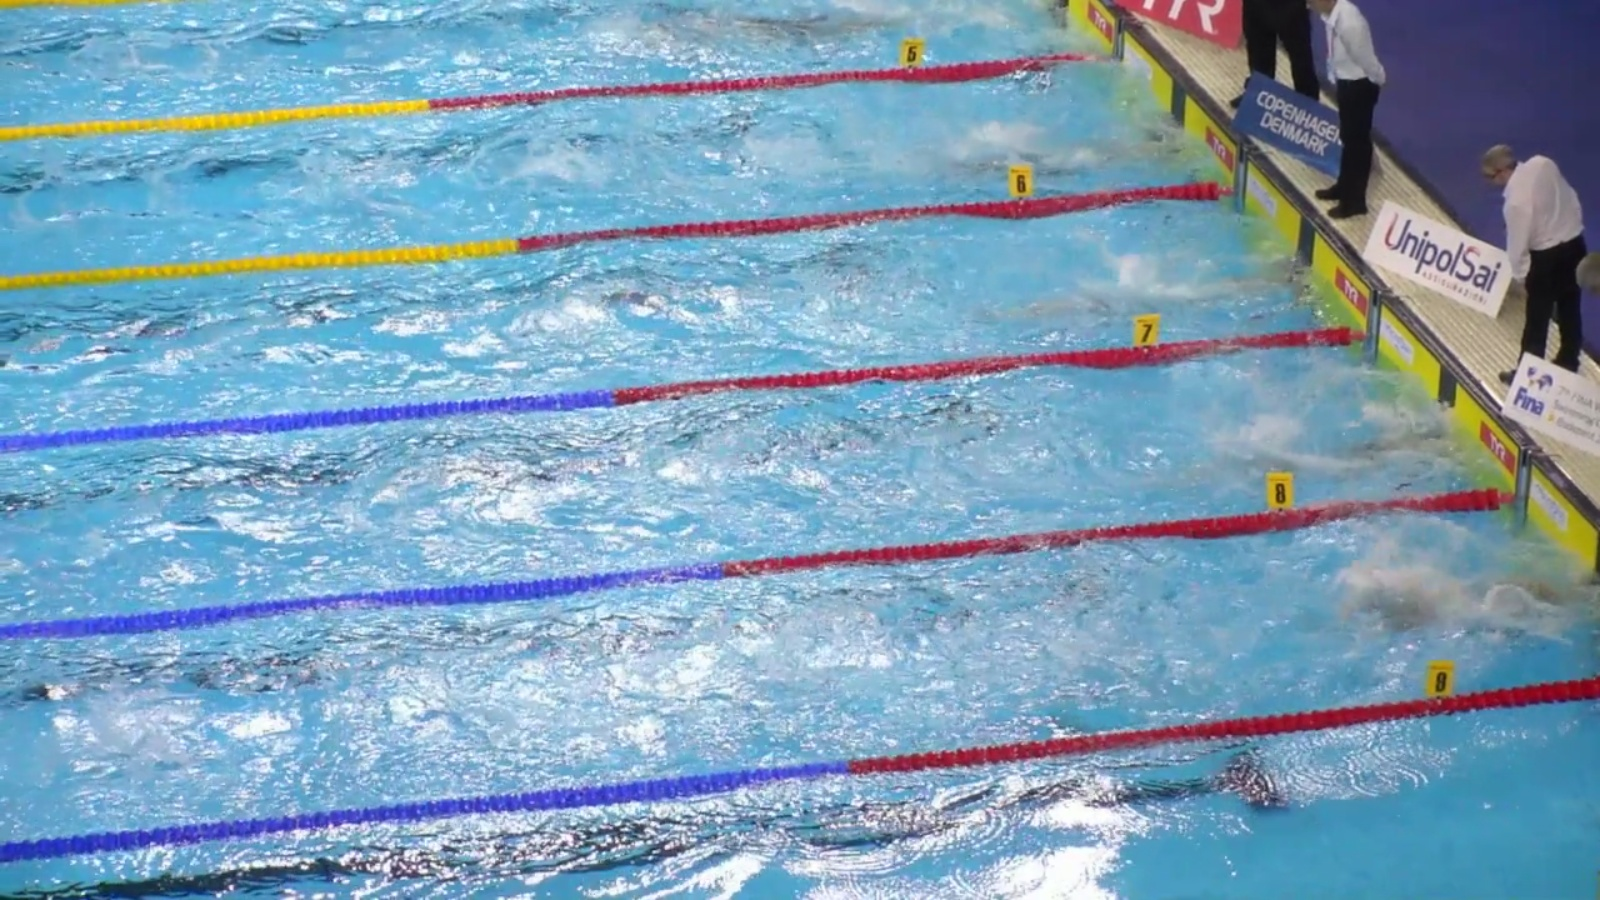swimmerw: (984, 264, 1295, 355), (1214, 409, 1465, 484), (1357, 567, 1595, 638), (931, 129, 1166, 188), (635, 9, 884, 44)
